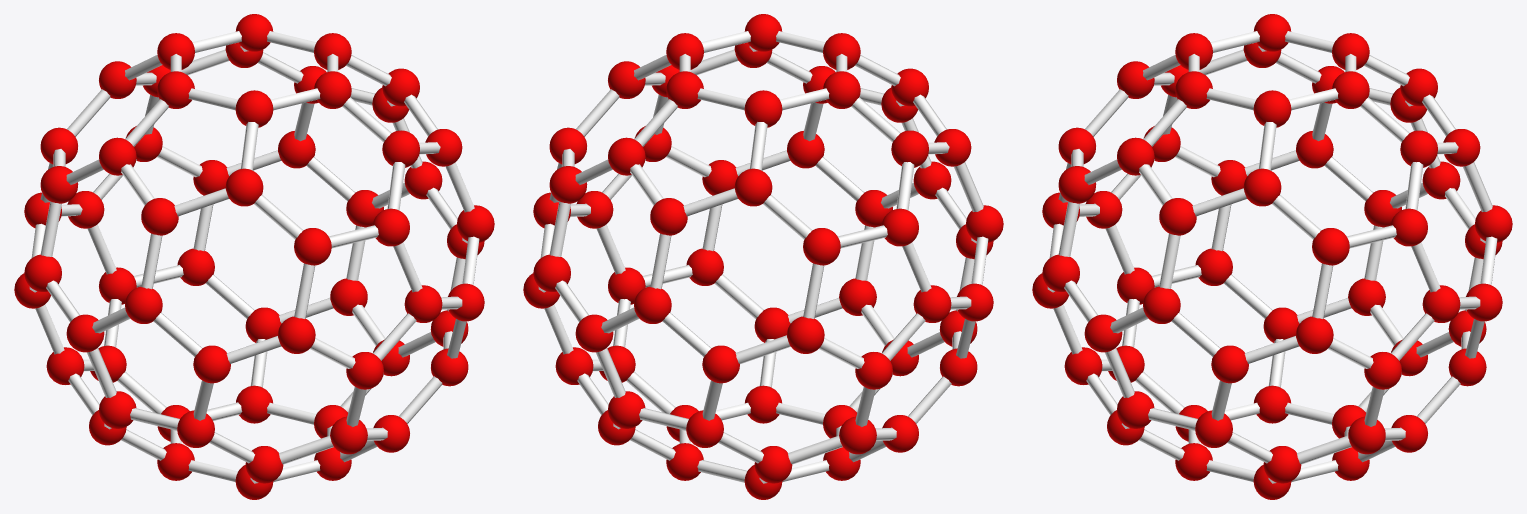
3 renders of one model, left to right at view 1: azimuth 30°, elevation 25°; view 2: azimuth 150°, elevation 25°; view 3: azimuth 270°, elevation 25°, orthographic.
Parts seen in each view (by area): view 1: Carbon_037, Carbon_013, Carbon_046, Carbon_036, Carbon_059, Carbon_045, Carbon_038, Carbon_004, Carbon_005, Carbon_029, Carbon_030, Carbon_012 (+93 smaller); view 2: Carbon_034, Carbon_008, Carbon_043, Carbon_054, Carbon_033, Carbon_042, Carbon_035, Carbon_006, Carbon_001, Carbon_044, Carbon_009, Carbon_055 (+93 smaller); view 3: Carbon_040, Carbon_049, Carbon_011, Carbon_039, Carbon_048, Carbon_047, Carbon_041, Carbon_002, Carbon_003, Carbon_051, Carbon_007, Carbon_050 (+93 smaller).
Part boxes in pixels (x1,y1,x2,y2): Carbon_037: (294,228,331,265); Carbon_013: (225,168,263,206); Carbon_046: (278,316,315,353); Carbon_036: (141,198,178,235); Carbon_059: (193,345,230,383); Carbon_045: (125,286,162,323); Carbon_038: (372,208,409,246); Carbon_004: (314,71,351,108); Carbon_005: (235,90,273,127); Carbon_029: (404,285,442,322); Carbon_030: (346,352,383,389); Carbon_012: (382,130,419,167); Carbon_034: (803,228,840,265); Carbon_008: (734,168,772,206); Carbon_043: (787,316,824,353); Carbon_054: (702,345,739,383); Carbon_033: (650,198,687,235); Carbon_042: (634,286,671,323); Carbon_035: (881,208,918,246); Carbon_006: (823,71,860,108); Carbon_001: (744,90,782,127); Carbon_044: (913,285,951,322); Carbon_009: (891,130,928,167); Carbon_055: (855,352,892,389); Carbon_040: (1312,228,1349,265); Carbon_049: (1296,316,1333,353); Carbon_011: (1243,168,1281,206); Carbon_039: (1159,198,1196,235); Carbon_048: (1211,345,1248,383); Carbon_047: (1143,286,1180,323); Carbon_041: (1390,208,1427,246); Carbon_002: (1332,71,1369,108); Carbon_003: (1253,90,1291,127); Carbon_051: (1422,285,1460,322); Carbon_007: (1400,130,1437,167); Carbon_050: (1364,352,1401,389).
Bounding box in the file's own units: 207 × 195 × 209.
